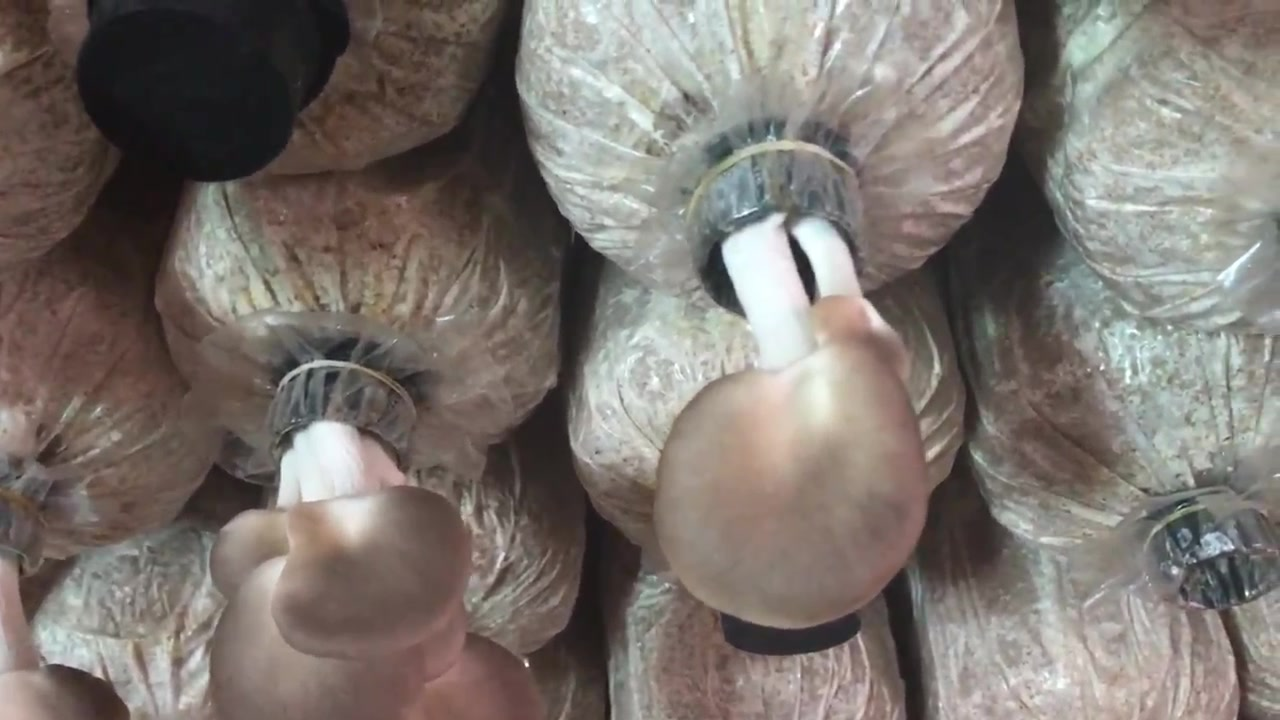nam: (656, 145, 927, 626), (208, 372, 533, 716), (1, 483, 124, 720)
